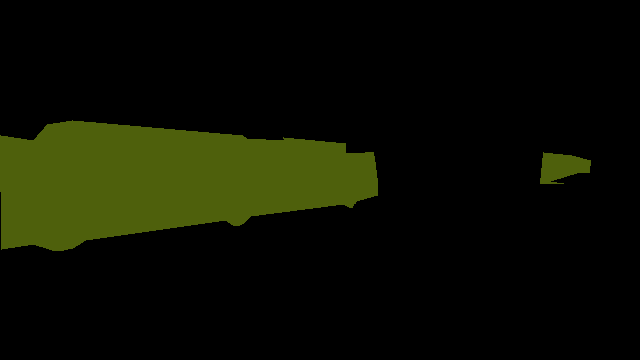Train: (0, 120, 377, 251), (540, 152, 590, 183)
